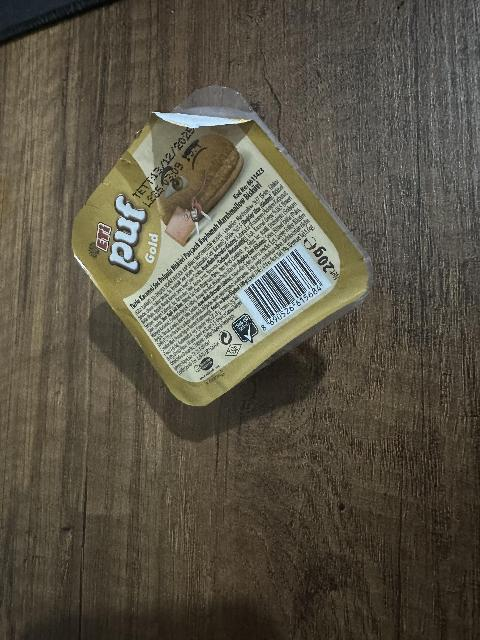Plastik: (56, 97, 381, 402)
